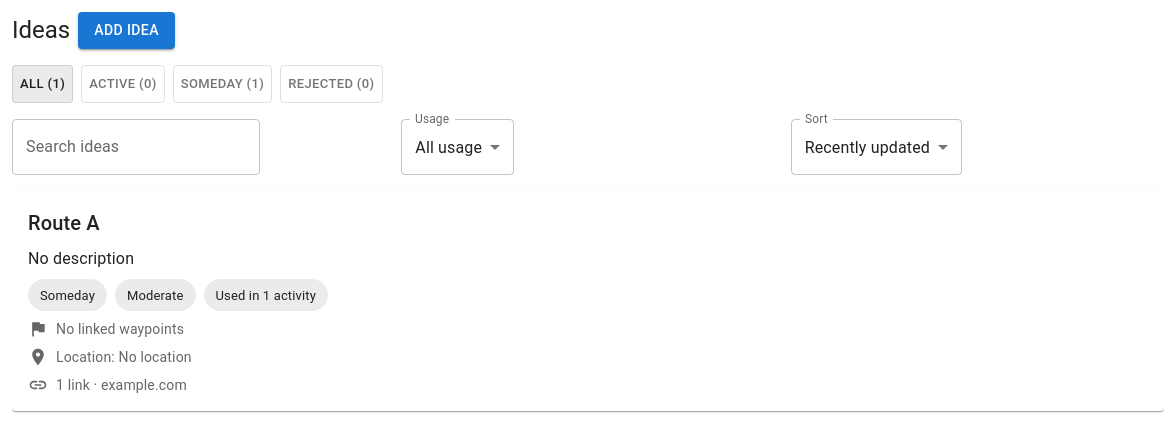
it: Ideas › searches across planning states by reference hostname and filters by usage
Step 1. Type "example.com" into the field labelled "Search ideas" → point(136, 147), box [12,119,260,175]
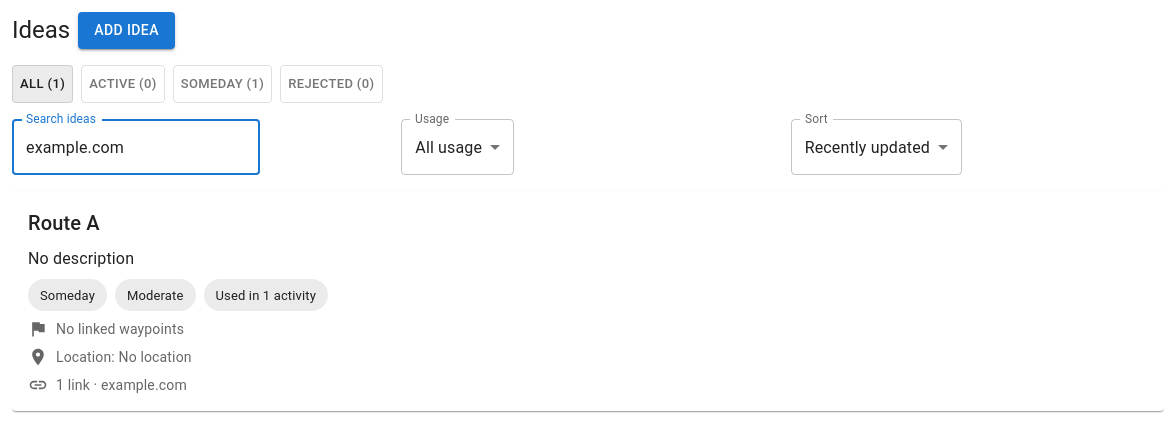
Expected: the heading "Route A" is shown, [28,211,100,235]
Expected: the button with aria-label "All ideas (1)" is shown, [12,64,73,103]
Step 2. Click the dropdown labelled "usage" → point(449, 147), box [415,138,482,157]
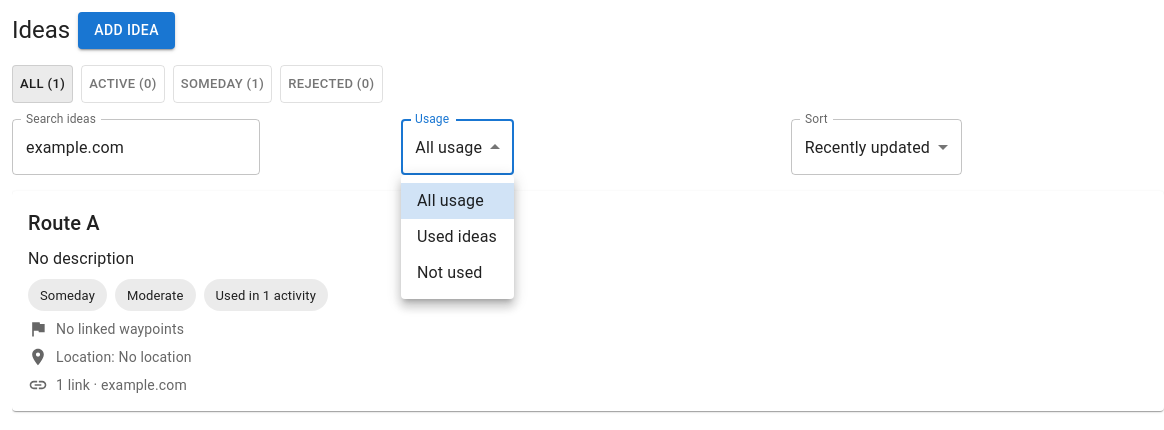
Step 3. Click the option "Not used" → point(450, 272), box [417,263,482,282]
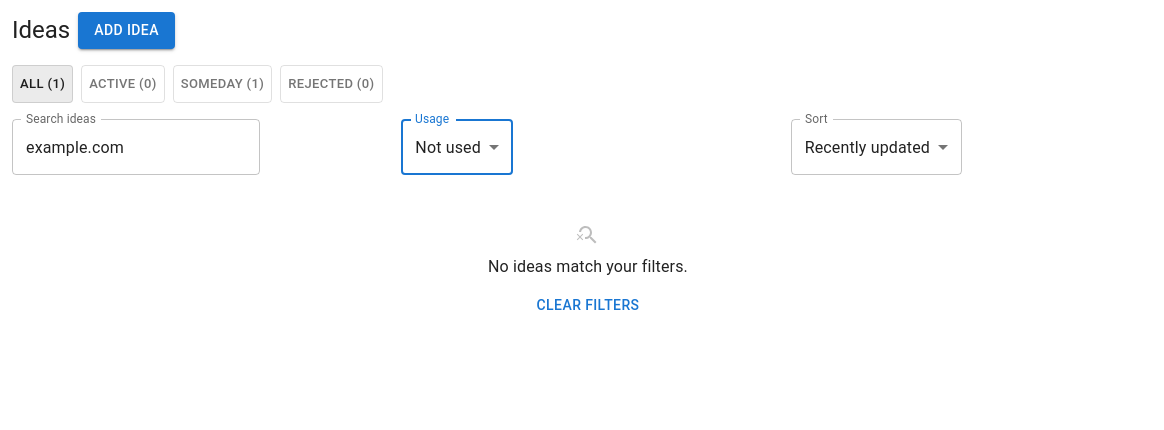
Expected: the text "No ideas match your filters." is shown, [488,255,688,279]
